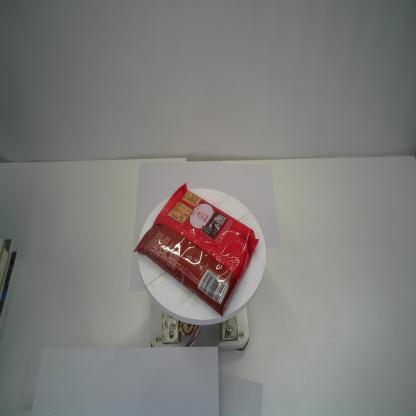Dessert: (132, 182, 260, 317)
